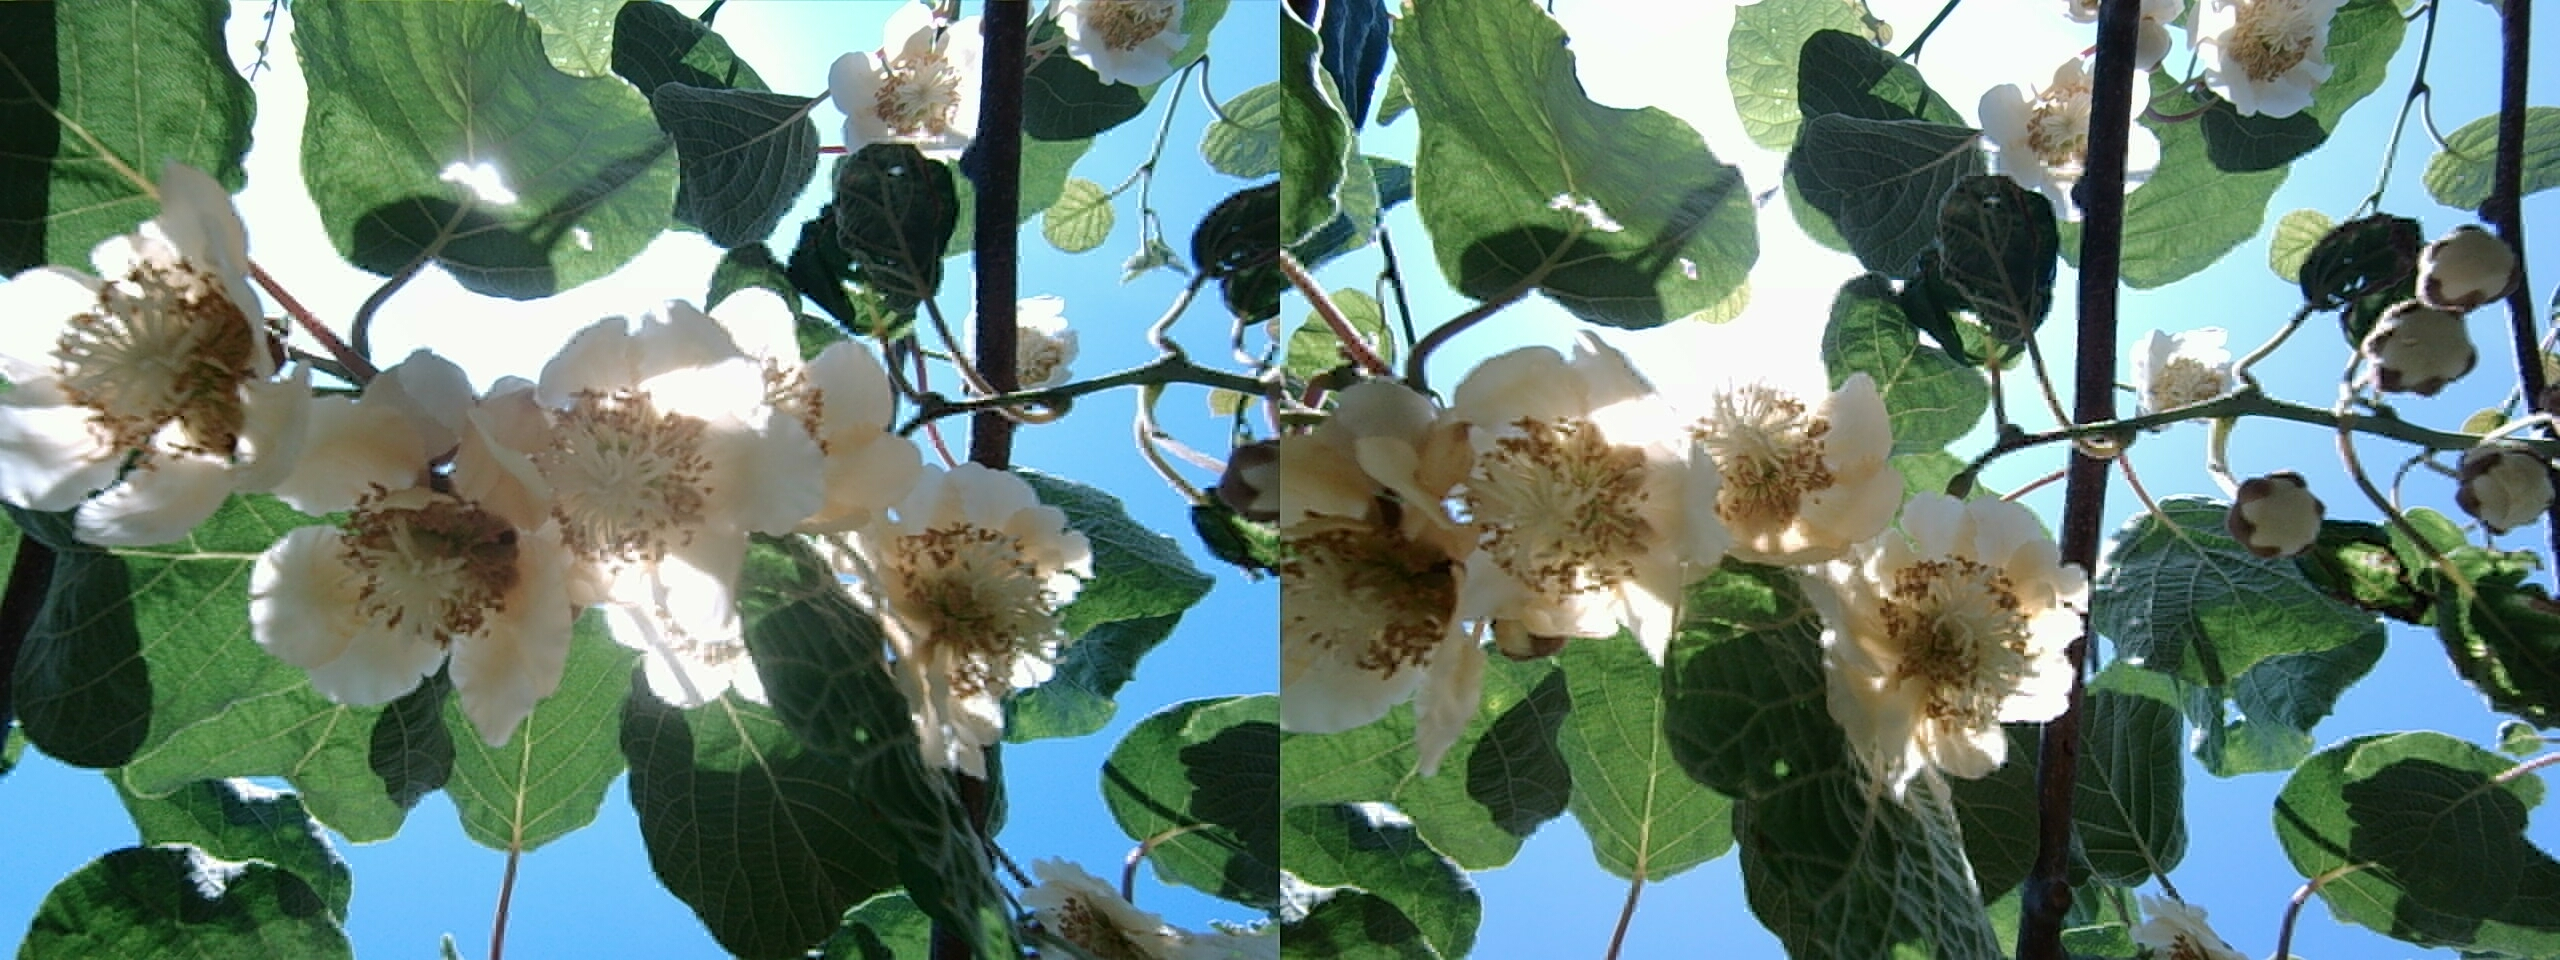flower: (229, 348, 571, 722), (13, 189, 286, 500), (472, 349, 800, 606), (1419, 362, 1709, 642), (1807, 491, 2078, 776), (834, 456, 1096, 741), (1265, 459, 1471, 727), (1657, 351, 1897, 553), (2186, 3, 2351, 150), (823, 13, 975, 145), (1987, 59, 2131, 188)
